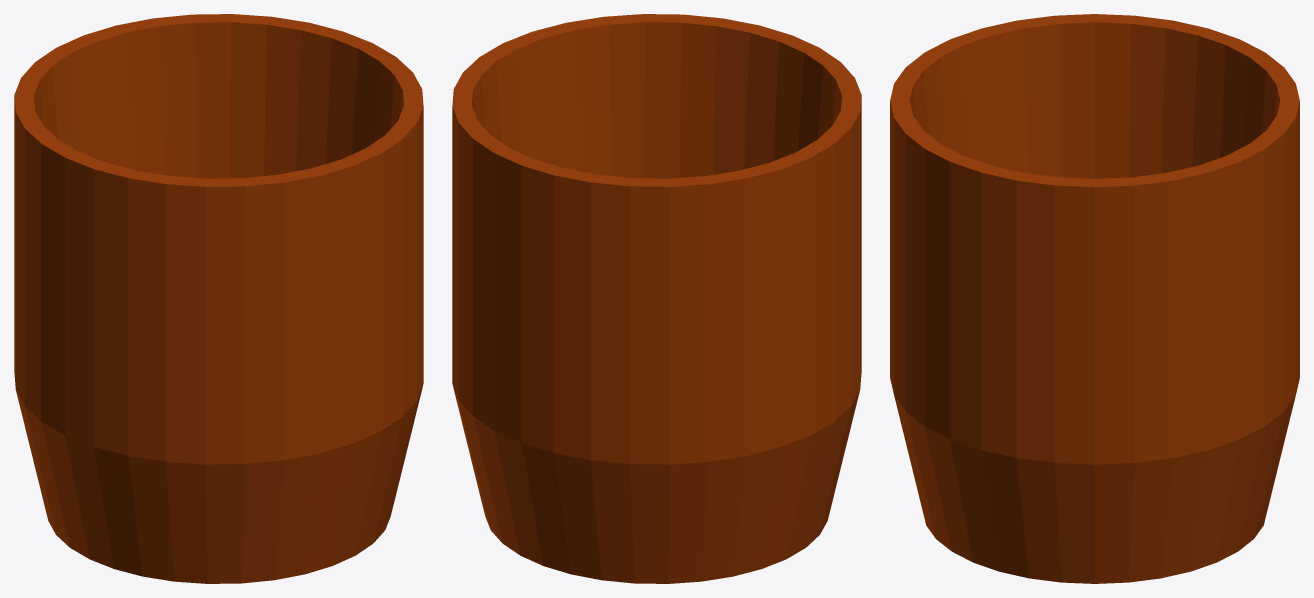
The model's file is ustensilwood_006.fbx.
The picture shows the model from 3 angles, left to right: view 1: azimuth 30°, elevation 25°; view 2: azimuth 150°, elevation 25°; view 3: azimuth 270°, elevation 25°; orthographic projection.
Visible parts, largest first — view 1: Cylinder; view 2: Cylinder; view 3: Cylinder.
Part boxes in pixels (<box>): Cylinder: <box>14,14,423,583</box>; Cylinder: <box>452,14,861,583</box>; Cylinder: <box>890,14,1299,583</box>.
Bounding box in the file's own units: 81.64 × 90.27 × 81.64.
